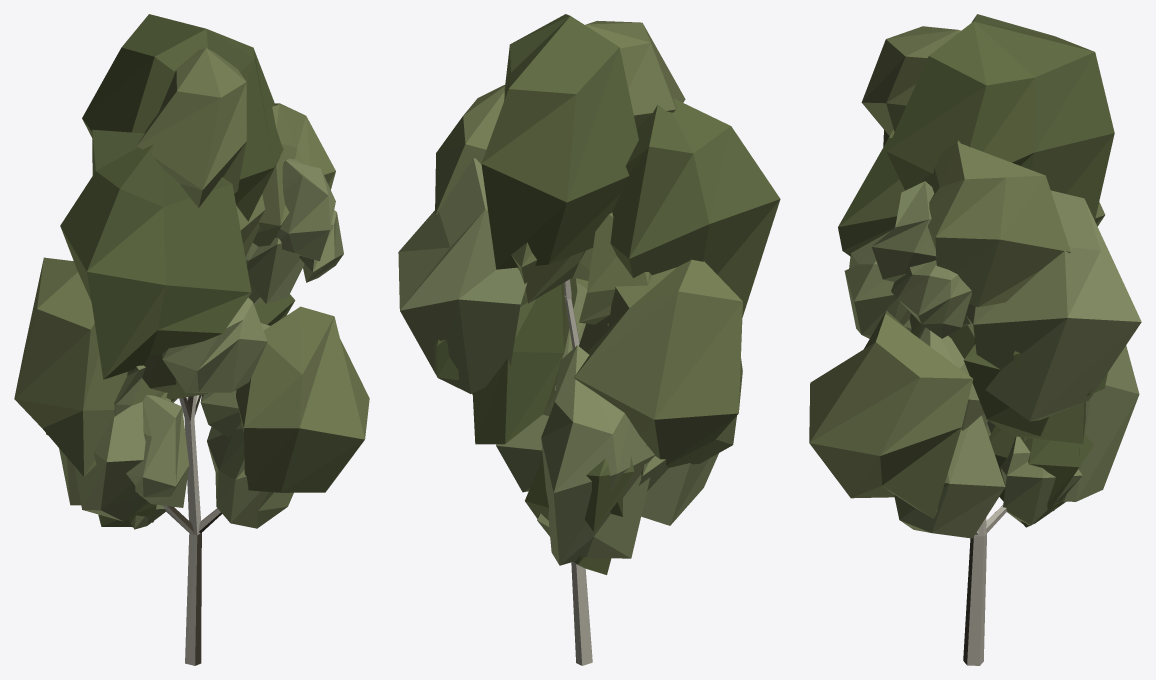
3 renders of one model, left to right at view 1: azimuth 30°, elevation 25°; view 2: azimuth 150°, elevation 25°; view 3: azimuth 270°, elevation 25°, orthographic. The views are drawn at different scales.
Parts seen in each view (by area): view 1: birch; view 2: birch; view 3: birch.
Part boxes in pixels (left/top/right/bottom): birch: left=14, top=14, right=369, bottom=665; birch: left=398, top=14, right=780, bottom=665; birch: left=809, top=14, right=1141, bottom=665.
Size of the model in its own units: 10.76 by 21.49 by 9.98.
